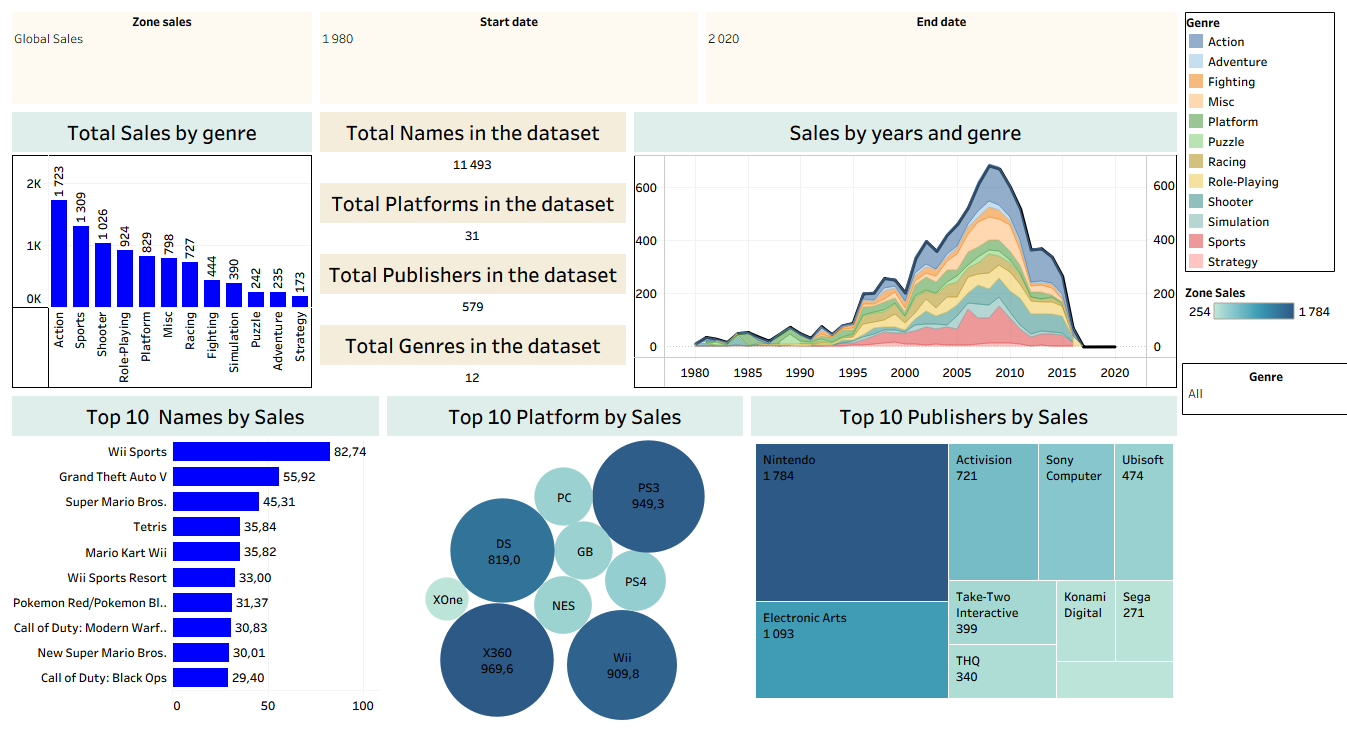

The page's visual inventory and layout, read from the dashboard file:
{"tool":"tableau","page":{"name":"Dashboard 1","canvas":[1347,732],"ordinal":0},"visuals":[{"type":"parameter","param":"[Parameters].[Parameter 1]","box":[8,8,307.5,100]},{"type":"parameter","param":"[Parameters].[Parameter 2]","box":[315.5,8,386.7,100]},{"type":"parameter","param":"[Parameters].[Parameter 3]","box":[702.2,8,478.8,100]},{"type":"legend","title":"Sales by years and genre","param":"[federated.0yfv8150vq72y5124g6nb04qi2a8].[none:Genre:nk]","box":[1181,8,158,268]},{"type":"worksheet","title":"Total Sales by genre","mark":"Automatic","rows":["Calculation_0826038039781376"],"cols":["Genre"],"box":[8,108,308,283.6]},{"type":"worksheet","title":"Total Names in the dataset","mark":"Automatic","box":[316,108,314,70.9]},{"type":"worksheet","title":"Sales by years and genre","mark":"Automatic","rows":["Calculation_0826038039781376","Calculation_0826038039781376"],"cols":["Year"],"box":[630,108,551,283.6]},{"type":"worksheet","title":"Total Platforms in the dataset","mark":"Automatic","box":[316,178.9,314,70.9]},{"type":"worksheet","title":"Total Publishers in the dataset","mark":"Automatic","box":[316,249.8,314,70.9]},{"type":"legend","title":"Top 10 Publishers by Sales","param":"[federated.0yfv8150vq72y5124g6nb04qi2a8].[sum:Calculation_0826038039781376:qk]","box":[1181,276,158,65]},{"type":"worksheet","title":"Total Genres in the dataset","mark":"Automatic","box":[316,320.7,314,70.9]},{"type":"filter","title":"Sales by years and genre","param":"[federated.0yfv8150vq72y5124g6nb04qi2a8].[none:Genre:nk]","box":[1182,363,168,52]},{"type":"worksheet","title":"Top 10  Names by Sales","mark":"Automatic","rows":["Name"],"cols":["Calculation_0826038039781376"],"box":[8,391.6,375,332.4]},{"type":"worksheet","title":"Top 10 Platform by Sales","mark":"Circle","box":[383,391.6,364,332.4]},{"type":"worksheet","title":"Top 10 Publishers by Sales","mark":"Automatic","box":[747,391.6,434,332.4]}]}

Visuals, with their boxes in screenshot pixels (x1, y1, x2, y2), scaled from the page's 1347x732 canvas onto the 1347x732 screenshot:
parameter: <region>8, 8, 316, 108</region>
parameter: <region>316, 8, 702, 108</region>
parameter: <region>702, 8, 1181, 108</region>
"Sales by years and genre" legend: <region>1181, 8, 1339, 276</region>
"Total Sales by genre" worksheet: <region>8, 108, 316, 392</region>
"Total Names in the dataset" worksheet: <region>316, 108, 630, 179</region>
"Sales by years and genre" worksheet: <region>630, 108, 1181, 392</region>
"Total Platforms in the dataset" worksheet: <region>316, 179, 630, 250</region>
"Total Publishers in the dataset" worksheet: <region>316, 250, 630, 321</region>
"Top 10 Publishers by Sales" legend: <region>1181, 276, 1339, 341</region>
"Total Genres in the dataset" worksheet: <region>316, 321, 630, 392</region>
"Sales by years and genre" filter: <region>1182, 363, 1346, 415</region>
"Top 10  Names by Sales" worksheet: <region>8, 392, 383, 724</region>
"Top 10 Platform by Sales" worksheet (Circle marks): <region>383, 392, 747, 724</region>
"Top 10 Publishers by Sales" worksheet: <region>747, 392, 1181, 724</region>
